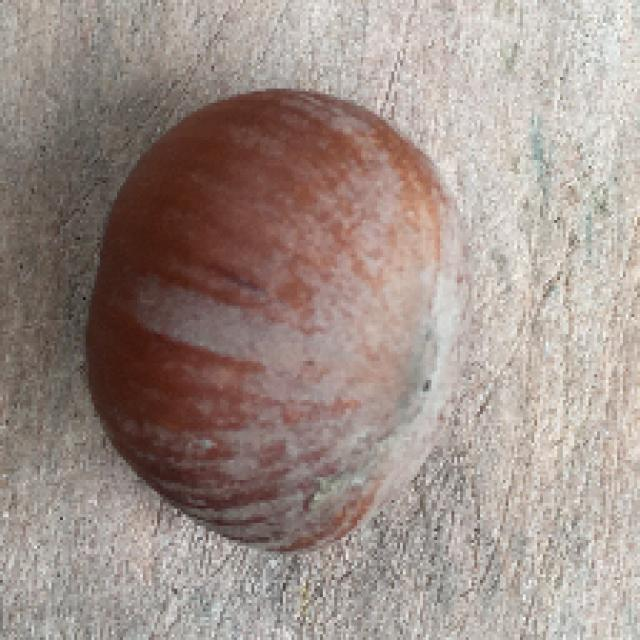qualityHazelnut: (75, 85, 478, 559)
